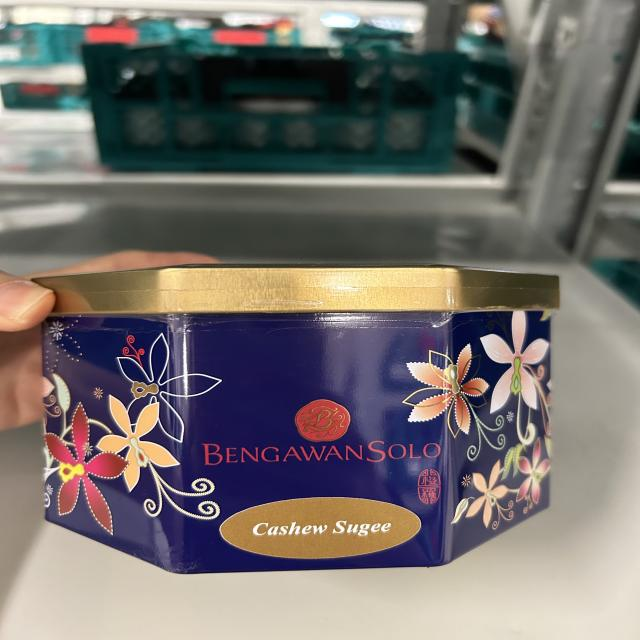object_name: (62, 275, 558, 573)
